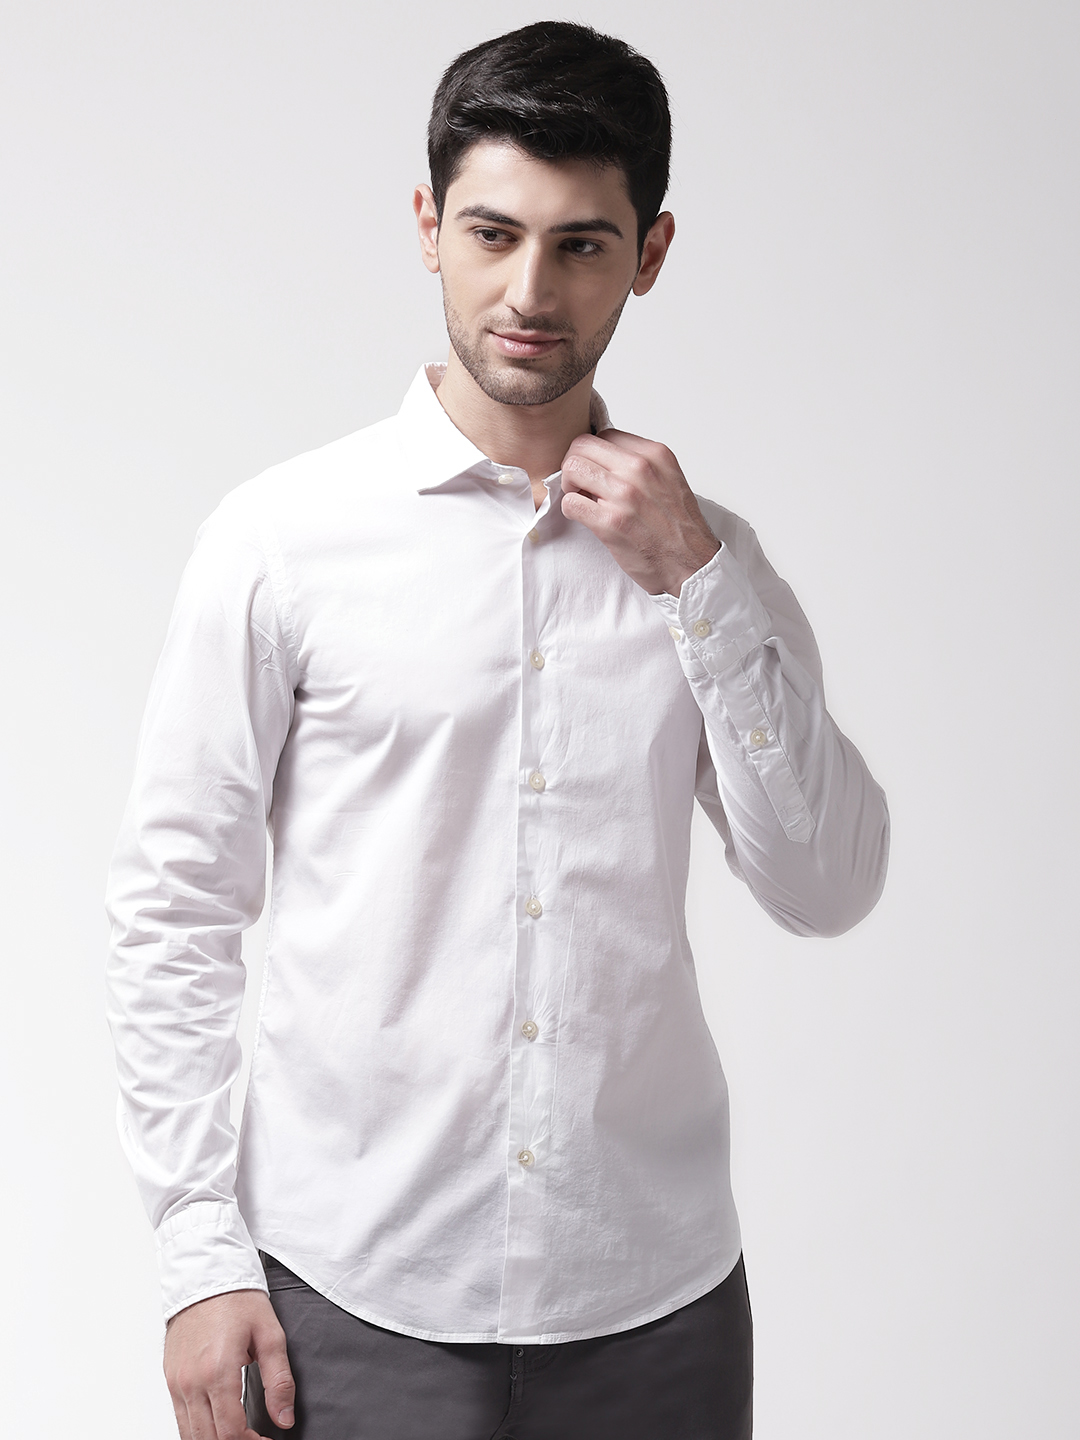NOTSAFE: (255, 20, 749, 1324)
